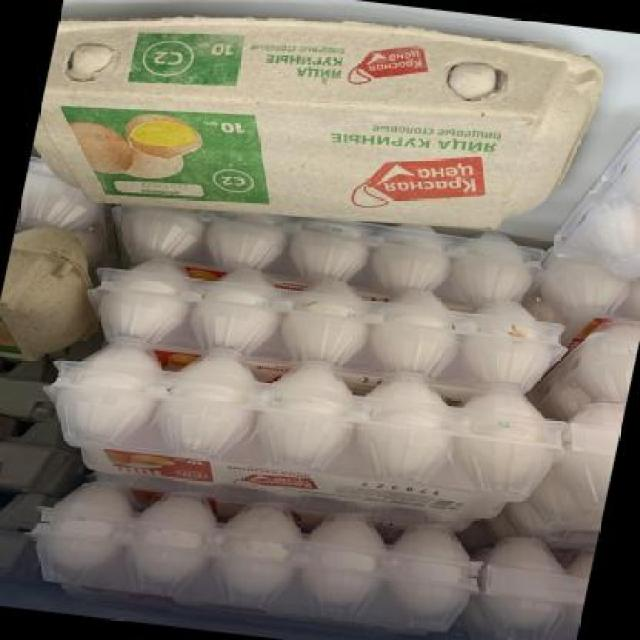Egg: (23, 0, 615, 257), (37, 335, 575, 528), (0, 219, 114, 370), (551, 112, 640, 283), (0, 481, 60, 593), (0, 411, 75, 496), (0, 352, 58, 419)
